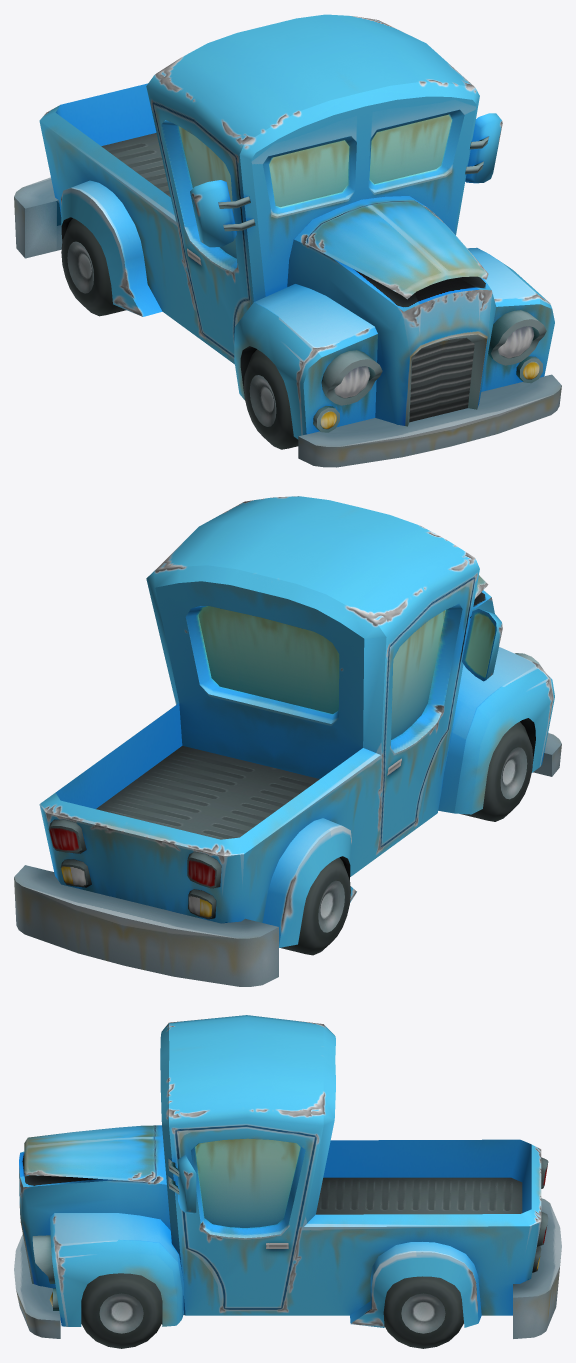
File: truck.fbx
3 views of the same model, one above another, from view 1: azimuth 30°, elevation 25°; view 2: azimuth 150°, elevation 25°; view 3: azimuth 270°, elevation 25° (orthographic). The views are drawn at different scales.
Visible parts, largest first — view 1: truck, truck_wheel_RR, truck_wheel_FR; view 2: truck, truck_wheel_RR, truck_wheel_FR; view 3: truck, truck_wheel_FL, truck_wheel_RL.
Part boxes in pixels (x1=…): truck: x1=14, y1=14, x2=561, y2=467; truck_wheel_RR: x1=61, y1=218, x2=126, y2=316; truck_wheel_FR: x1=243, y1=349, x2=298, y2=449; truck: x1=14, y1=496, x2=561, y2=986; truck_wheel_RR: x1=280, y1=857, x2=350, y2=955; truck_wheel_FR: x1=461, y1=721, x2=533, y2=821; truck: x1=14, y1=1015, x2=561, y2=1338; truck_wheel_FL: x1=81, y1=1273, x2=161, y2=1348; truck_wheel_RL: x1=383, y1=1276, x2=463, y2=1348.
Size of the model in its own units: 154 by 150 by 287.
